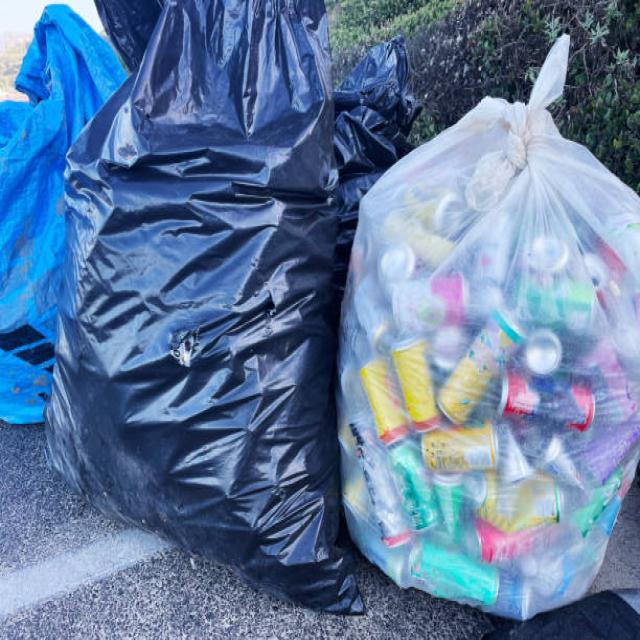trash: (1, 25, 610, 616)
